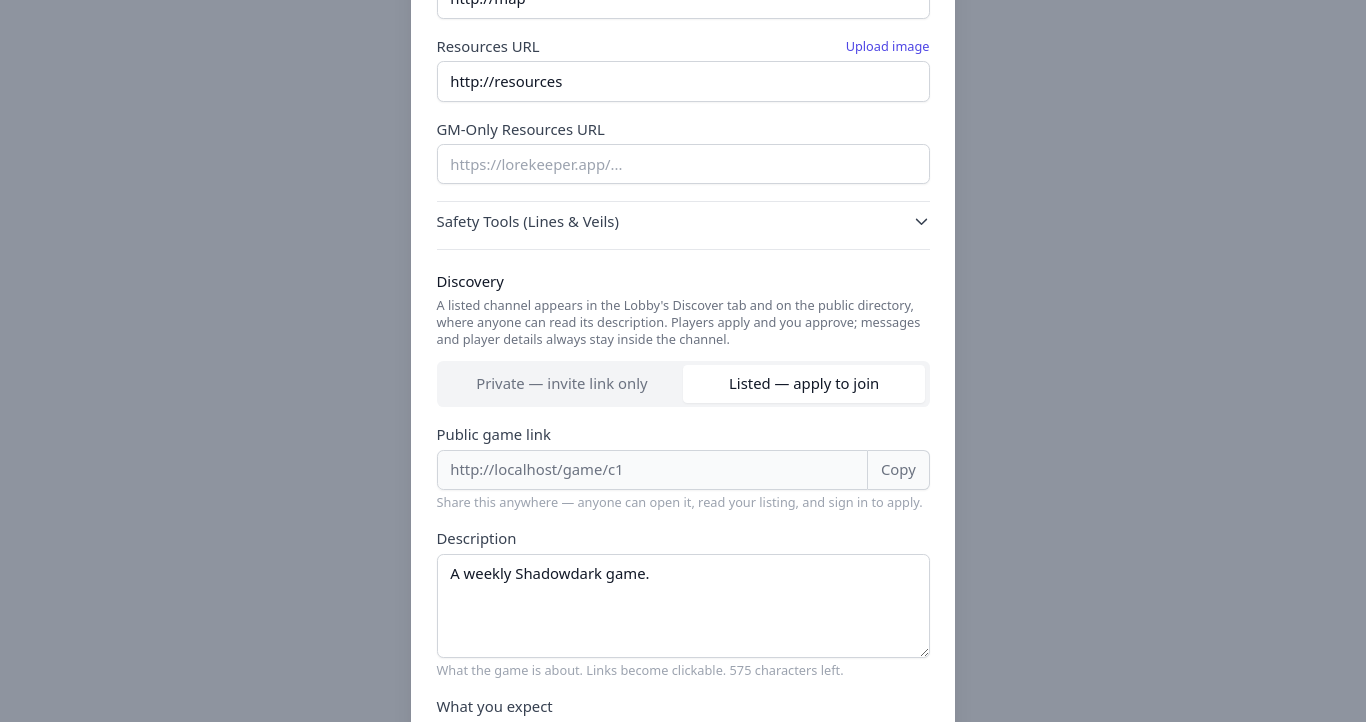
Scenario: ChannelSettings › Discovery and join requests (#674) › confirms before removing the listing, and keeps it when cancelled
The width and height of the screenshot is (1366, 722).
(page scrolled)
Click the button "Private — invite link only" at point(562, 384), box [441,365,683,403]
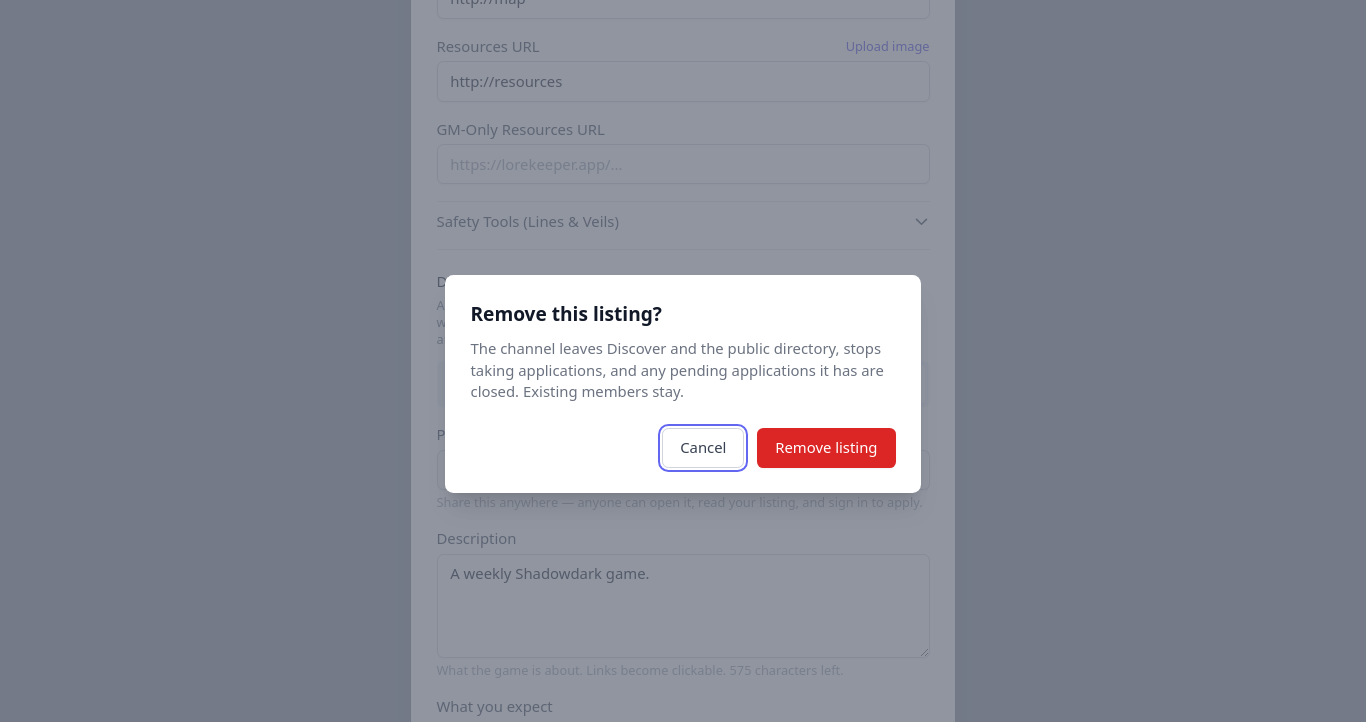
Click the button "Cancel" at point(703, 448), box [662,428,744,468]
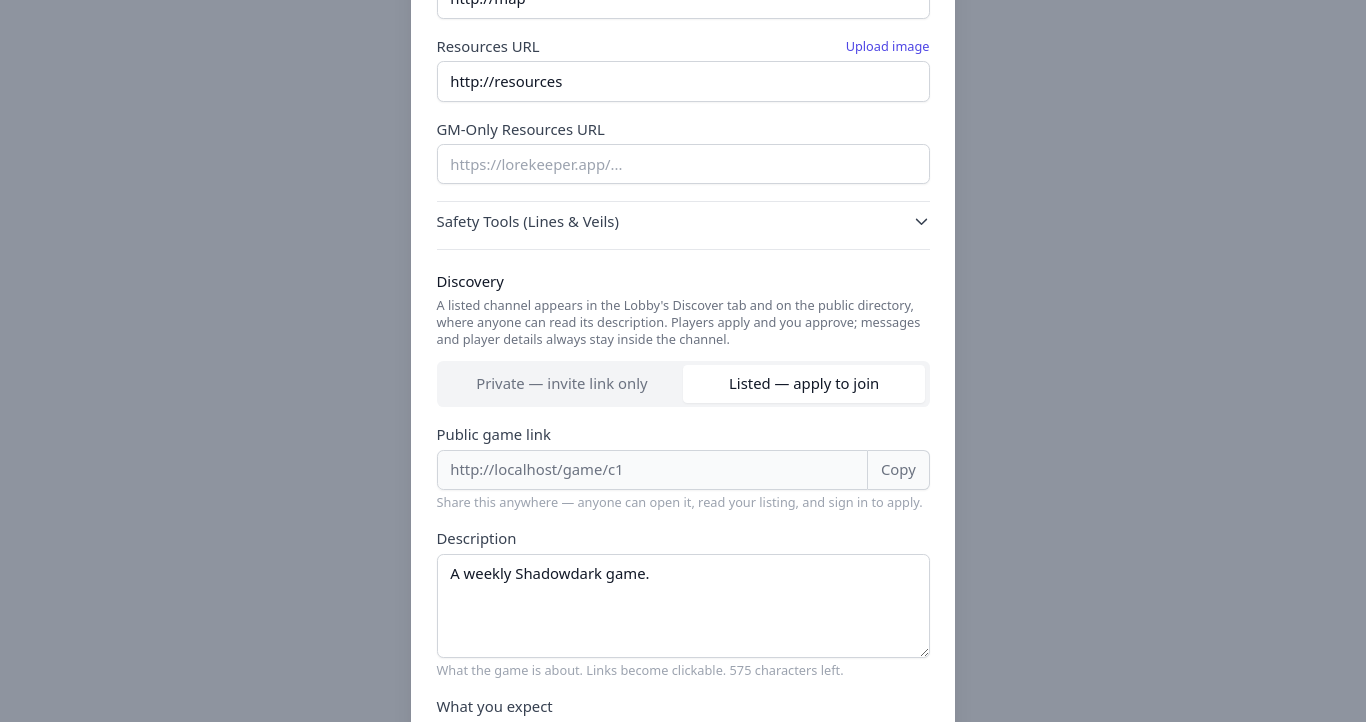
Now the heading "Remove this listing?" is gone
